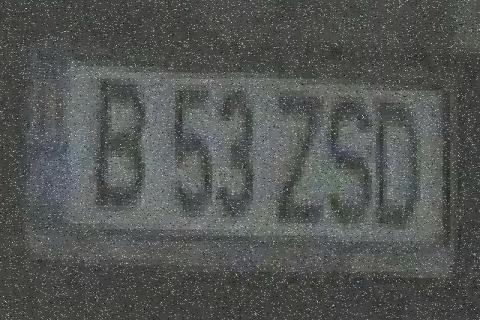LicensePlate: (22, 35, 467, 291)
